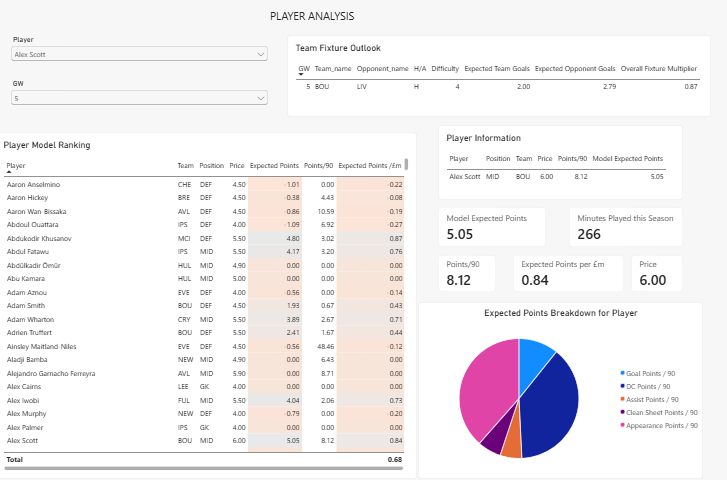

What the dashboard file says about the page in this screenshot:
{"tool":"powerbi","page":{"name":"Player Analysis","canvas":[1920,1080],"ordinal":2},"visuals":[{"type":"textbox","box":[550,26,262.5,52.5],"z":0},{"type":"tableEx","title":"Player Information","fields":{"Values":["Player_Analysis.Player","Player_Analysis.Position","Player_Analysis.Team","Player_Analysis.Price","Player_Analysis.Points/90","Player_Analysis.Model Expected Points"]},"box":[886,260,490,150],"z":1000},{"type":"cardVisual","fields":{"Data":["Sum(Player_Analysis.Model Expected Points)"]},"box":[886,424,216,80],"z":2000},{"type":"cardVisual","fields":{"Data":["Sum(Player_Analysis.Price)"]},"box":[1272,520,104,74],"z":3000},{"type":"cardVisual","fields":{"Data":["Sum(Player_Analysis.Points/90)"]},"box":[886,520,116,74],"z":4000},{"type":"cardVisual","fields":{"Data":["Sum(Player_Analysis.Minutes)"]},"box":[1148,424,228,80],"z":5000},{"type":"tableEx","title":"Team Fixture Outlook","fields":{"Values":["TEAM_FIXTURES.GW","TEAM_FIXTURES.Team_name","TEAM_FIXTURES.Opponent_name","TEAM_FIXTURES.H/A","TEAM_FIXTURES.Difficulty","TEAM_FIXTURES.Expected Team Goals","TEAM_FIXTURES.Expected Opponent Goals","TEAM_FIXTURES.Overall Fixture Multiplier"]},"box":[584,80,848,164],"z":6000},{"type":"slicer","fields":{"Values":["Players.Player"]},"box":[28,80,521.7,73.3],"z":7000},{"type":"slicer","fields":{"Values":["TEAM_FIXTURES.GW"]},"box":[28,168,521.7,150],"z":8000},{"type":"cardVisual","fields":{"Data":["Player_Analysis.Expected Points per £m"]},"box":[1036,520,222,74],"z":9000},{"type":"tableEx","title":"Player Model Ranking","fields":{"Values":["Player_Analysis.Player","Player_Analysis.Team","Player_Analysis.Position","Player_Analysis.Price","Player_Analysis.Model Expected Points","Player_Analysis.Points/90","Player_Analysis.Expected Points per £m"]},"box":[0,274,844,694],"z":10000},{"type":"pieChart","title":"Expected Points Breakdown for Player","fields":{"Y":["Sum(Player_Analysis.Expected Goal Points / 90)","Sum(Player_Analysis.Expected DC Points / 90)","Sum(Player_Analysis.Expected Assist Points / 90)","Sum(Player_Analysis.Expected Clean Sheet Points / 90)","Sum(Player_Analysis.Expected Appearance Points / 90)"]},"box":[846,614,570,354],"z":10001}]}

Visuals, with their boxes on the page's 1920x1080 design canvas (x1, y1, x2, y2). These are canvas units, not pixel positions in the 727x480 screenshot, which may show the page scaled, cropped or inside an application window:
textbox: (left=550, top=26, right=812, bottom=78)
"Player Information" tableEx: (left=886, top=260, right=1376, bottom=410)
cardVisual - Sum(Player_Analysis.Model Expected Points): (left=886, top=424, right=1102, bottom=504)
cardVisual - Sum(Player_Analysis.Price): (left=1272, top=520, right=1376, bottom=594)
cardVisual - Sum(Player_Analysis.Points/90): (left=886, top=520, right=1002, bottom=594)
cardVisual - Sum(Player_Analysis.Minutes): (left=1148, top=424, right=1376, bottom=504)
"Team Fixture Outlook" tableEx: (left=584, top=80, right=1432, bottom=244)
slicer - Players.Player: (left=28, top=80, right=550, bottom=153)
slicer - TEAM_FIXTURES.GW: (left=28, top=168, right=550, bottom=318)
cardVisual - Player_Analysis.Expected Points per £m: (left=1036, top=520, right=1258, bottom=594)
"Player Model Ranking" tableEx: (left=0, top=274, right=844, bottom=968)
"Expected Points Breakdown for Player" pieChart: (left=846, top=614, right=1416, bottom=968)
